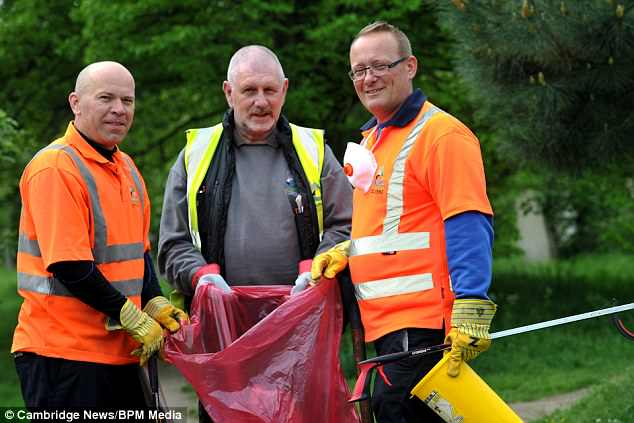noepi: (160, 40, 363, 423), (341, 19, 499, 423), (20, 60, 179, 415)
